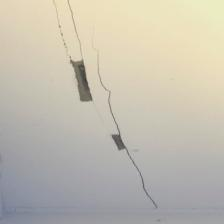Medium: (53, 8, 173, 204)
